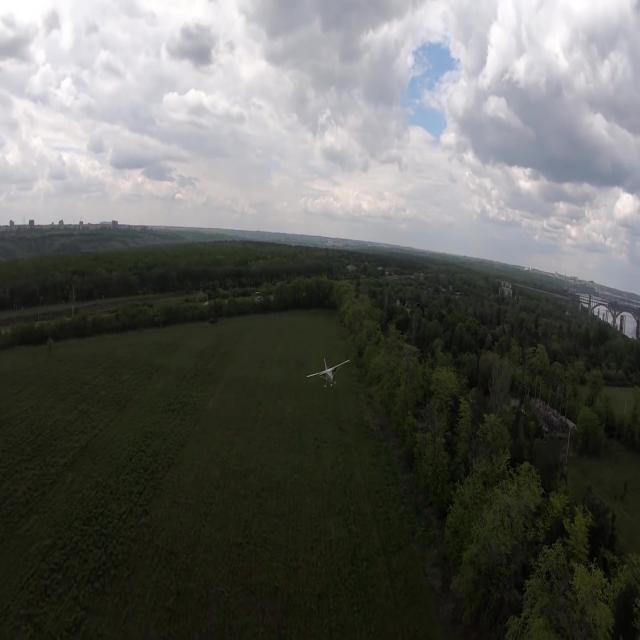iha: (295, 354, 346, 391)
